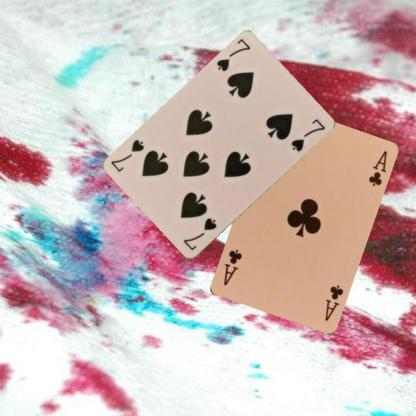7s: (214, 36, 252, 74), (180, 216, 218, 252)
Ac: (322, 282, 344, 322)
